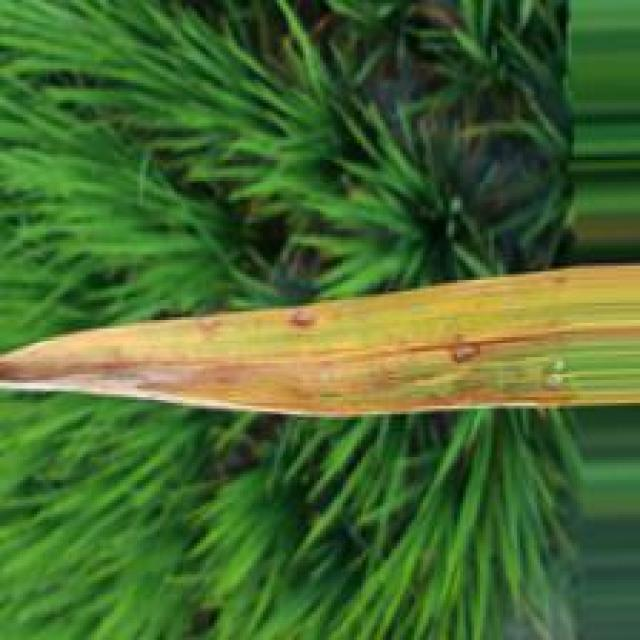Bacterial_Leaf_Blight: (0, 266, 640, 414)
